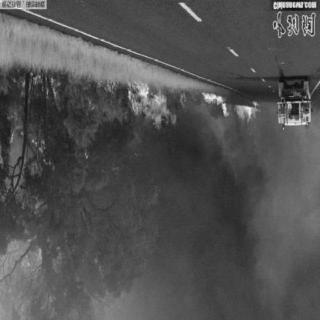Fire: (31, 72, 63, 104), (83, 100, 95, 117), (9, 128, 17, 150)
Smoke: (144, 141, 292, 313)
